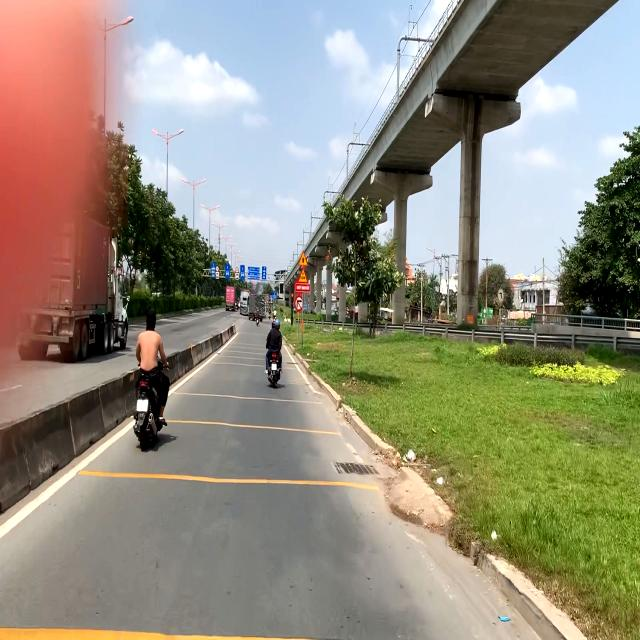P.123b: (294, 295, 302, 312)
W.207b: (299, 250, 308, 266)
W.245a: (298, 266, 308, 282)
